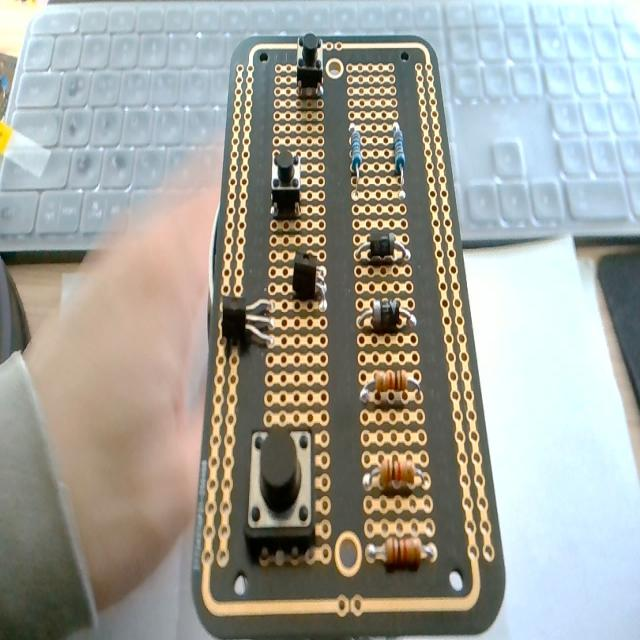diode: (354, 295, 418, 333), (357, 230, 410, 262)
resistor: (364, 457, 427, 492), (368, 536, 432, 568), (360, 373, 420, 405), (390, 120, 406, 193), (349, 123, 362, 176)
switch: (245, 426, 316, 544), (271, 147, 302, 219), (296, 33, 324, 97)
transistor: (290, 241, 330, 315), (220, 296, 278, 347)
